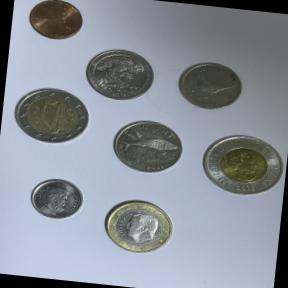coin: (195, 127, 288, 205), (8, 83, 95, 152), (96, 194, 184, 262), (106, 112, 191, 180), (78, 42, 160, 106), (20, 0, 91, 47), (24, 174, 88, 226)
